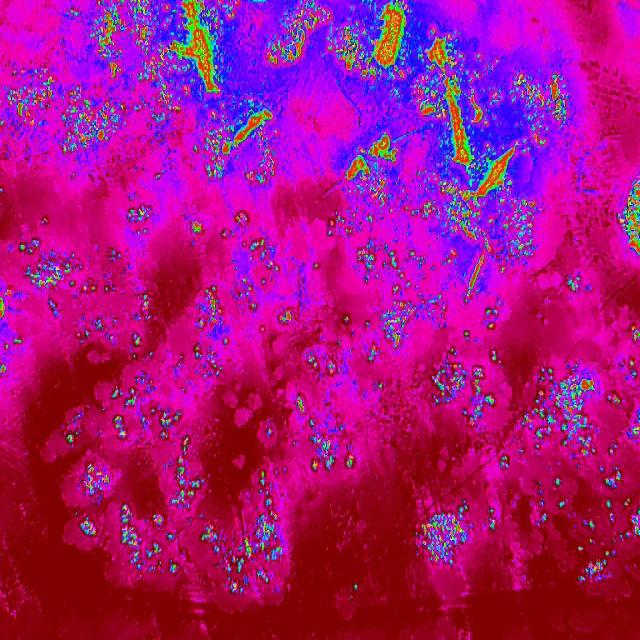fire: (328, 0, 582, 298), (60, 374, 288, 598), (72, 0, 278, 190), (500, 355, 640, 583), (0, 200, 160, 372), (293, 298, 419, 472), (183, 209, 302, 381), (0, 66, 130, 164), (427, 307, 504, 424), (260, 0, 334, 76), (417, 503, 502, 568), (617, 173, 640, 256), (629, 324, 640, 347)
